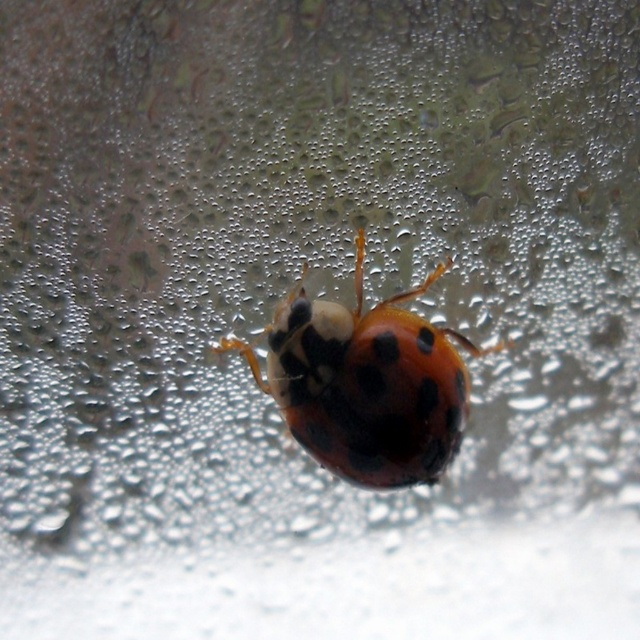Ladybug: (212, 229, 514, 492)
